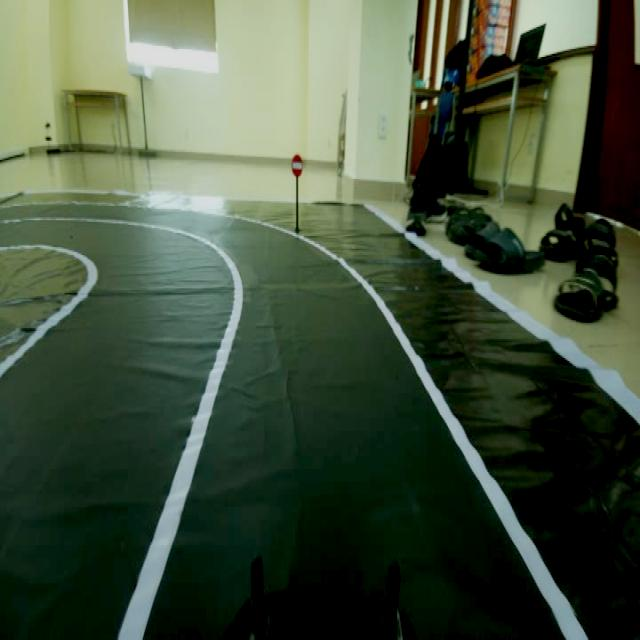no_entry: (287, 150, 304, 176)
